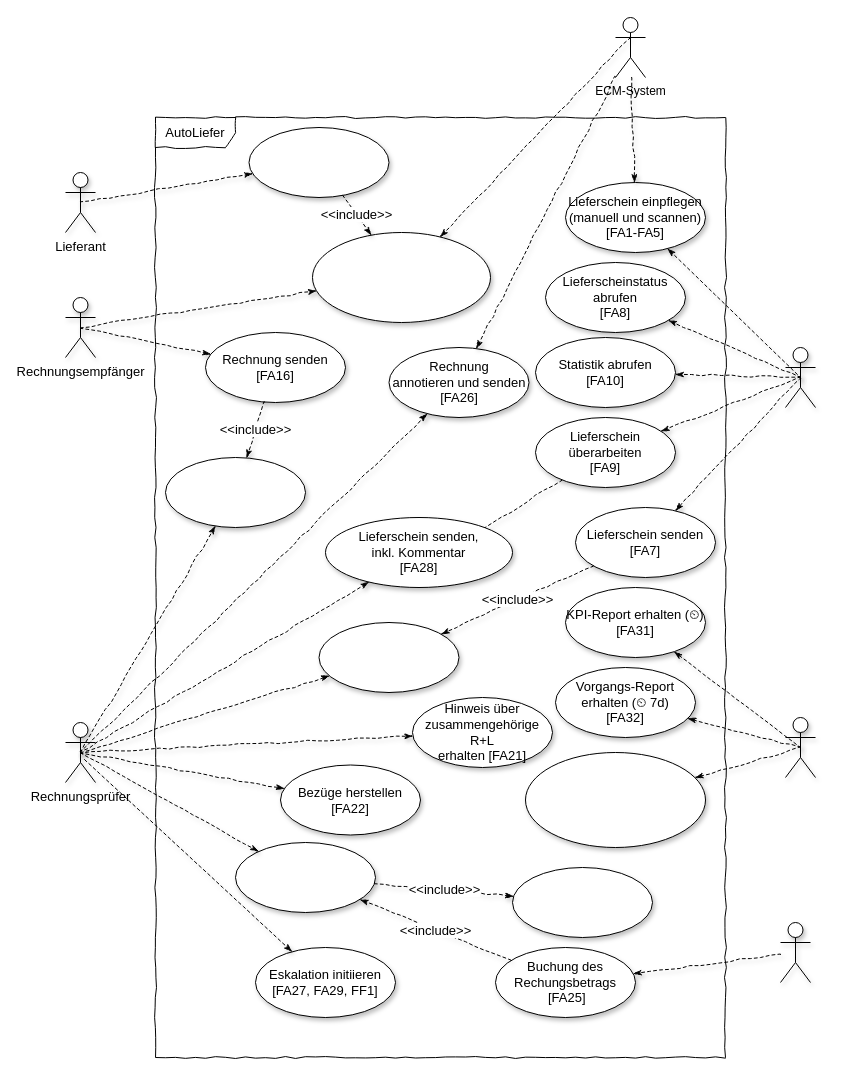
Some shapes in this 855 by 1075 pixel diagram are drawn without their labels. Each missing label, with the centre of its shape:
Auftraggeber: (x=801, y=378)
Banküberweisung ausführen [FA24]: (x=583, y=903)
Einkäufer: (x=801, y=748)
ERP-Sytem: (x=796, y=954)
Eskalations-Report erhalten (⏲ 24h) (kommentieren, vorgehen entscheiden) [FA33]: (x=616, y=801)
Lieferschein empfangen [FA19]: (x=389, y=659)
Rechnung einpflegen (manuell, scannen, empfangen) [FA11-FA15]: (x=402, y=279)
Rechnung empafangen [FA20]: (x=236, y=493)
Rechnung senden [FA34]: (x=319, y=163)
Rechnungsbearbeitung ausführen [FA23, FA30]: (x=306, y=879)
